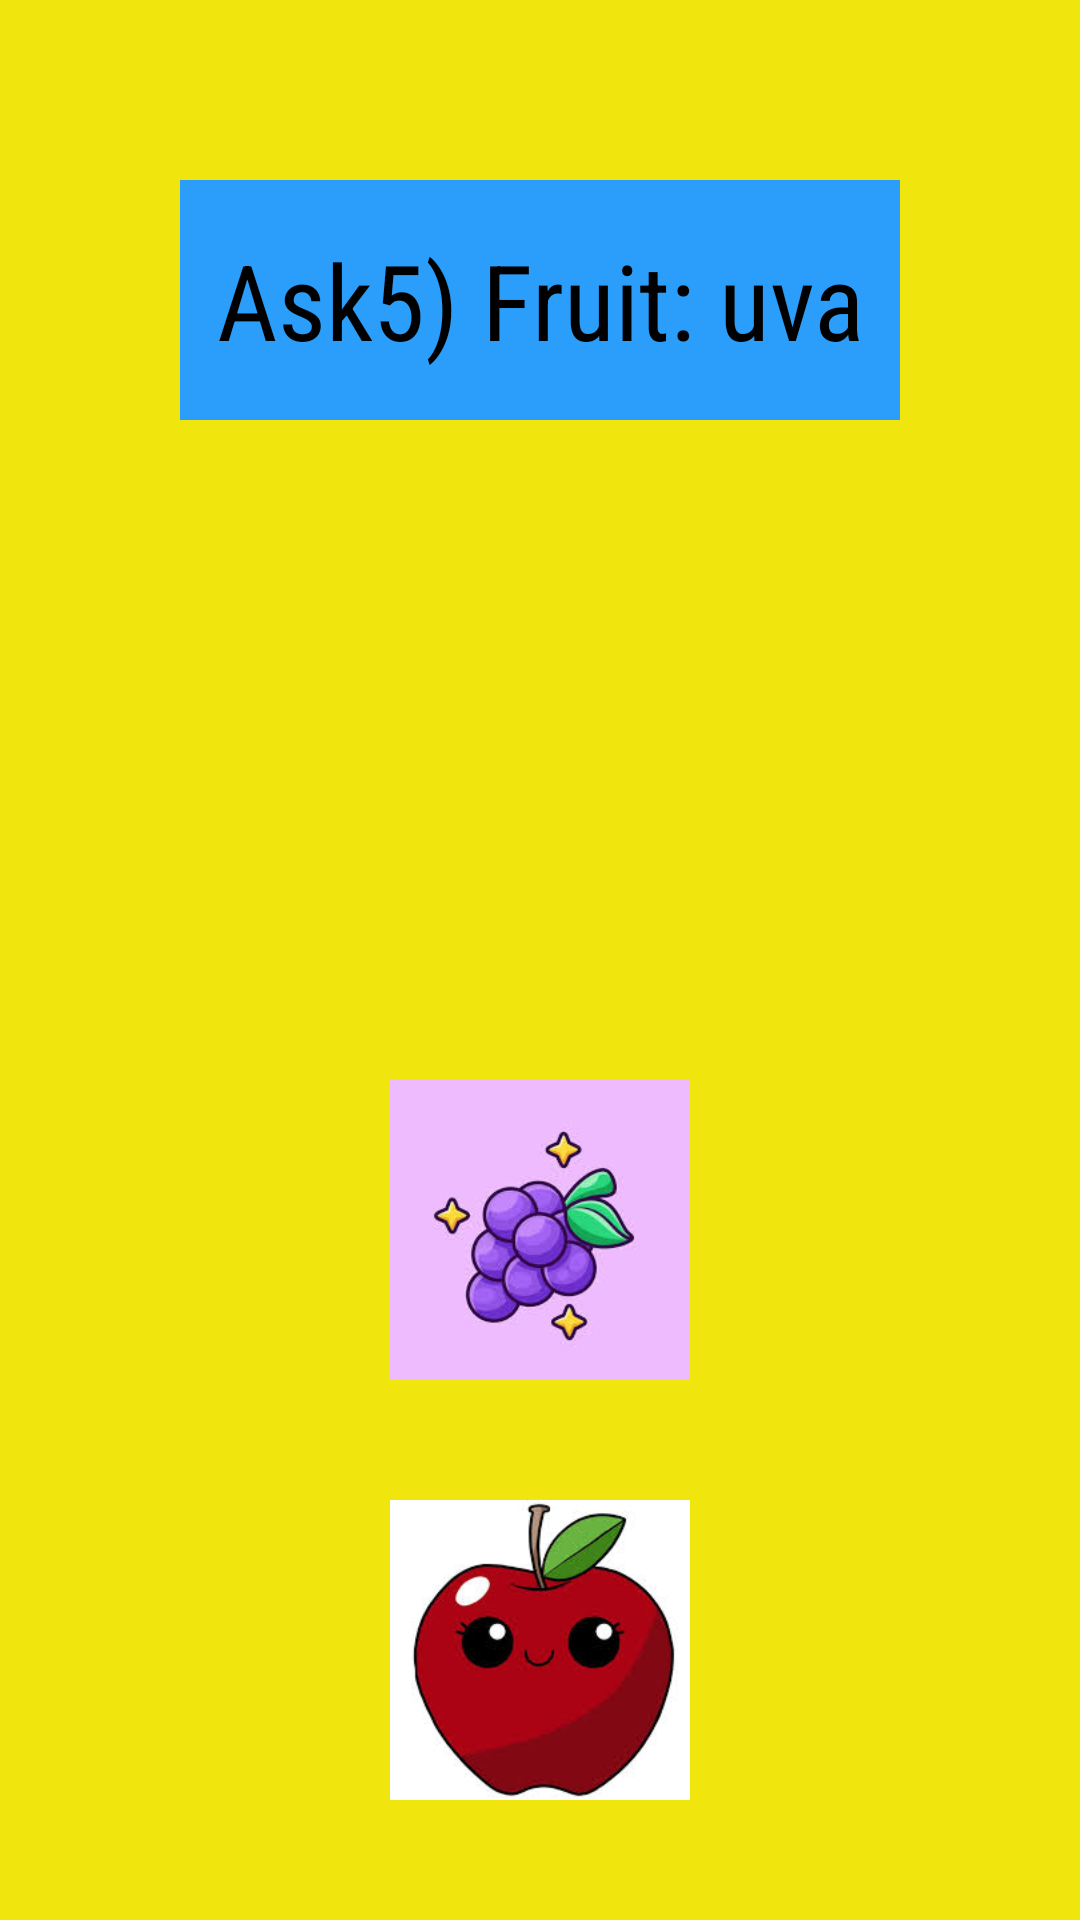

Icon click points for this 1080px x 1920px phone screenshot, format point (x, y):
manzana pregunta: point (540, 1650)
uva pregunta: point (540, 1230)
